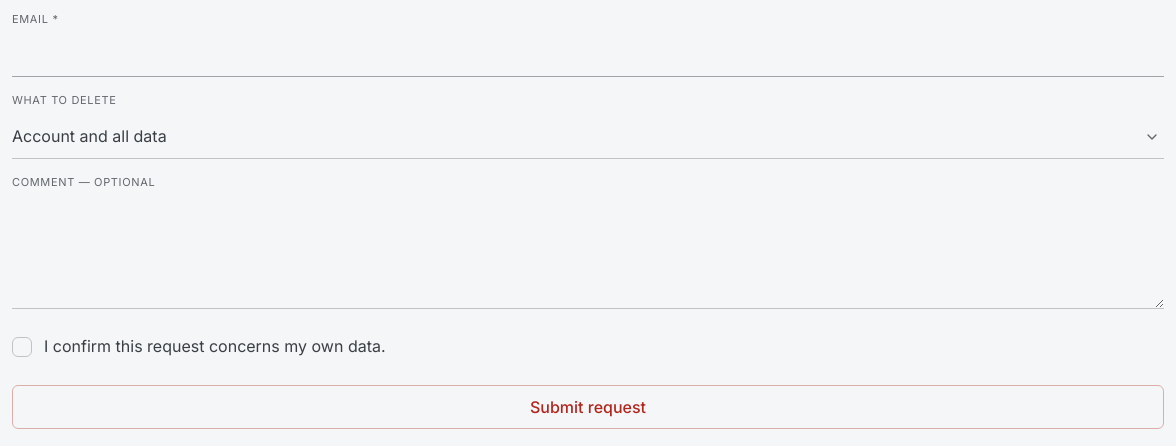
it: DeletionRequestForm › submits the exact real POST /api/privacy/deletion-requests contract — { email, scope, reason, confirmed: true }
Type "user@example.com" into the field labelled "Email *".
click(588, 55); type("user@example.com")  # box [12,33,1164,77]
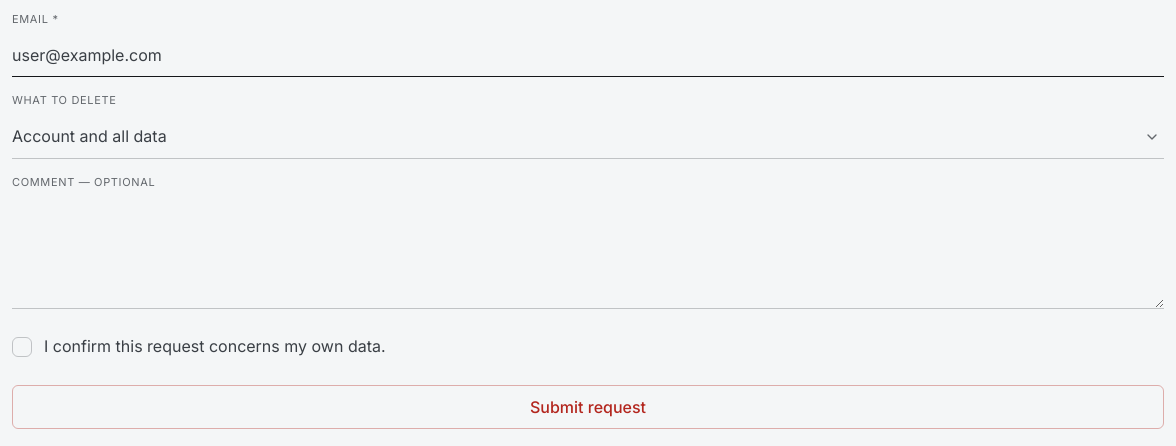
Select "AI memory" in the dropdown labelled "What to delete" at {"x": 588, "y": 137}, box [12,115,1164,159]
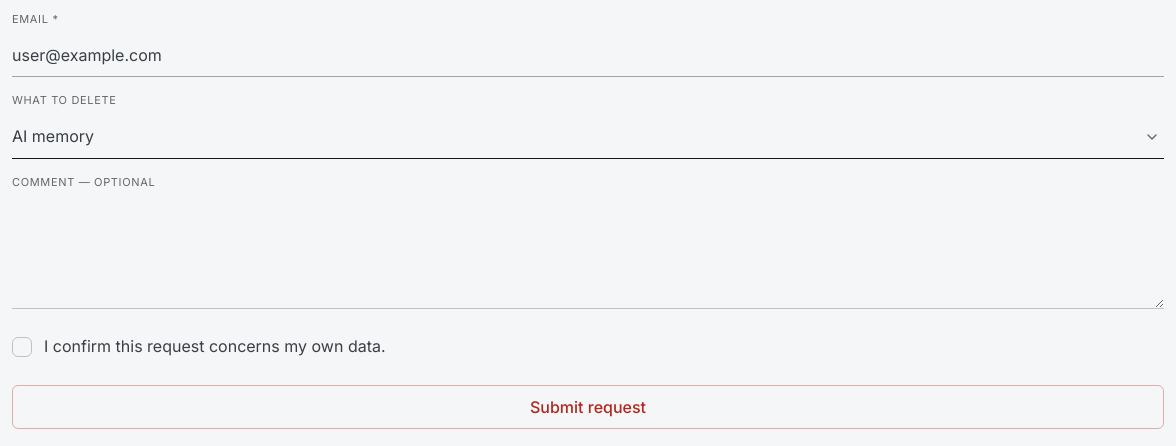
Click the checkbox labelled "I confirm this request concerns my own data.".
click(199, 347)  # box [12,336,386,357]
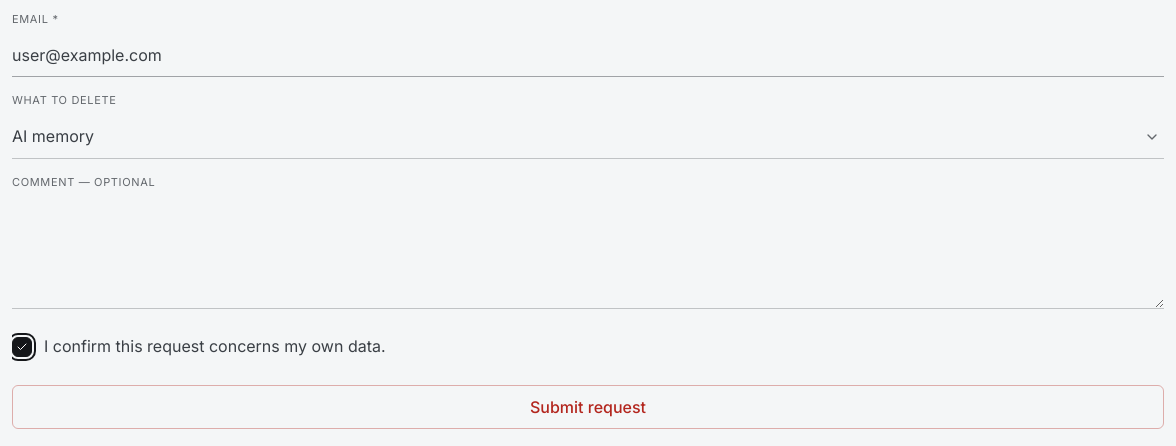
Click the button "Submit request".
click(588, 407)  # box [12,385,1164,429]
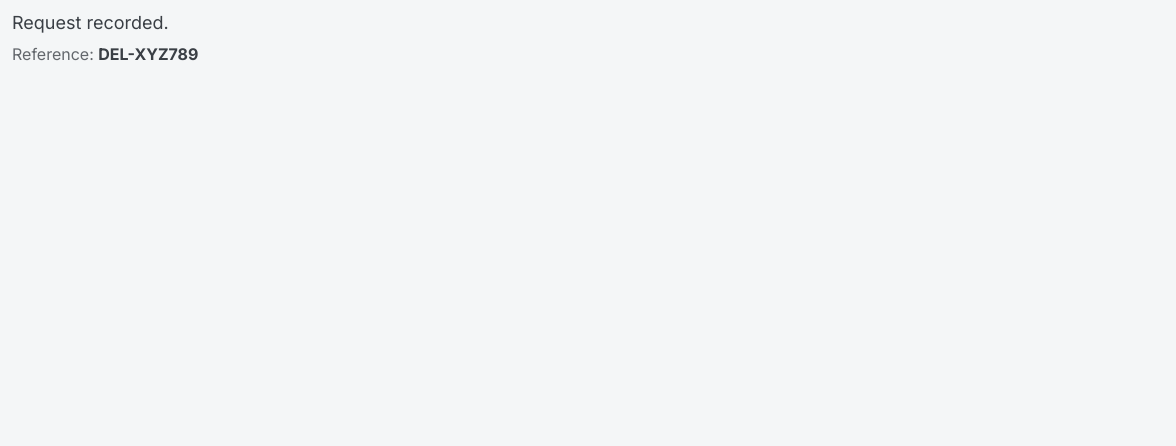
Now the heading "Request recorded." is shown, box [12,12,169,33]
Now the text "DEL-XYZ789" is shown, box [98,44,198,64]
